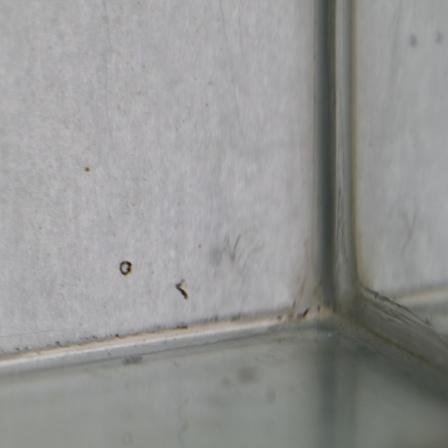Jentik-Nyamuk: (173, 274, 193, 303), (117, 257, 134, 280)
